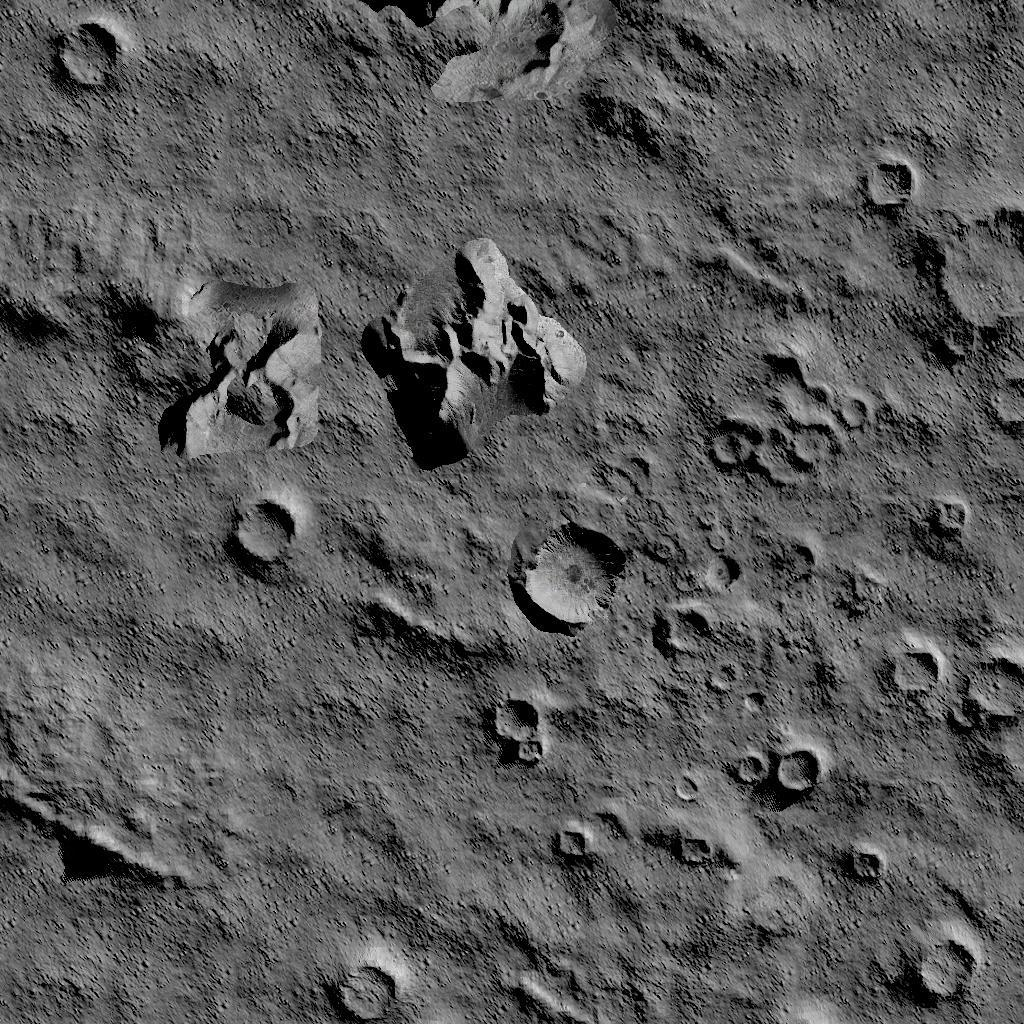Boulders: (0, 218, 324, 462), (361, 228, 593, 478), (346, 0, 634, 120), (330, 511, 494, 669), (0, 768, 198, 898)
Crater: (704, 348, 884, 488), (922, 202, 1024, 434), (863, 627, 1024, 740), (506, 510, 632, 644), (654, 540, 746, 658), (219, 482, 312, 588), (40, 10, 132, 110), (896, 920, 990, 1010), (321, 938, 419, 1024), (725, 725, 825, 807), (482, 690, 562, 775), (852, 151, 916, 218), (835, 827, 894, 898), (656, 816, 722, 878), (924, 486, 980, 540), (544, 812, 600, 864)
Plan surface: (226, 688, 472, 912), (2, 484, 204, 726), (165, 4, 328, 202), (0, 927, 300, 1024), (760, 19, 1024, 125)
